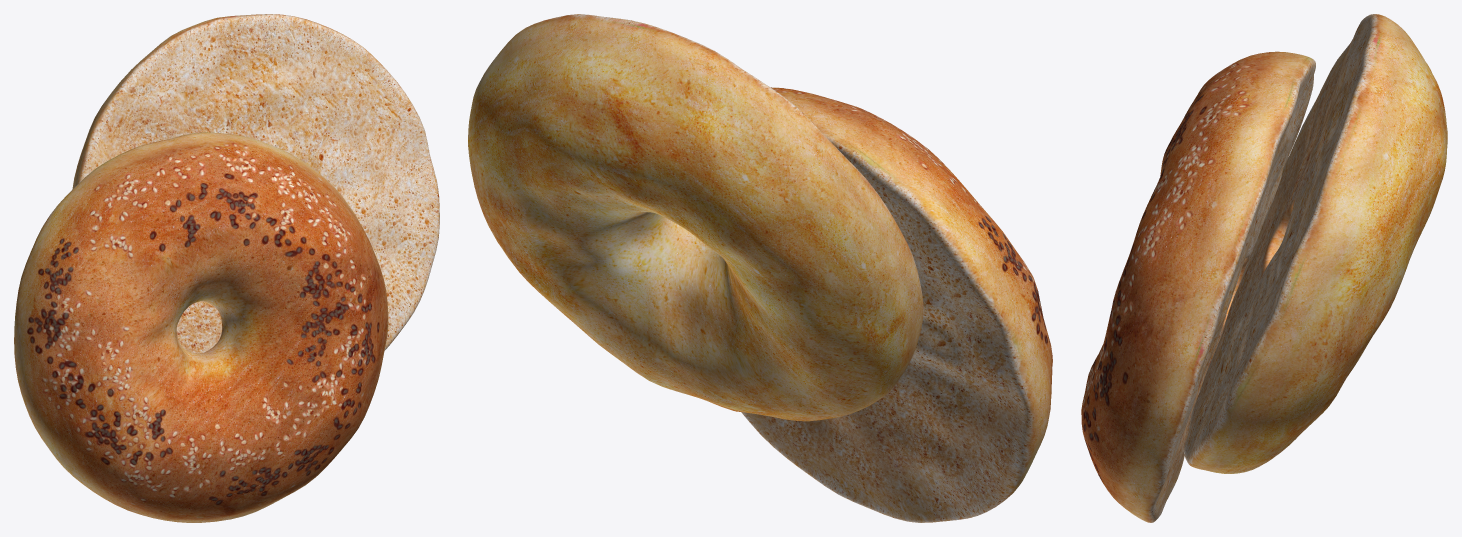
Rendered from bagel.glb.
3 renders of one model, left to right at view 1: azimuth 30°, elevation 25°; view 2: azimuth 150°, elevation 25°; view 3: azimuth 270°, elevation 25°, orthographic. The views are drawn at different scales.
Visible parts, largest first — view 1: Bagel; view 2: Bagel; view 3: Bagel.
Boxes of the visible parts, x1,y1,x2,y2 form: Bagel: (14,14,439,522); Bagel: (468,14,1052,522); Bagel: (1081,14,1447,522).
Size of the model in its own units: 8.1 by 7.71 by 4.9.
2 materials, 2 textured.
